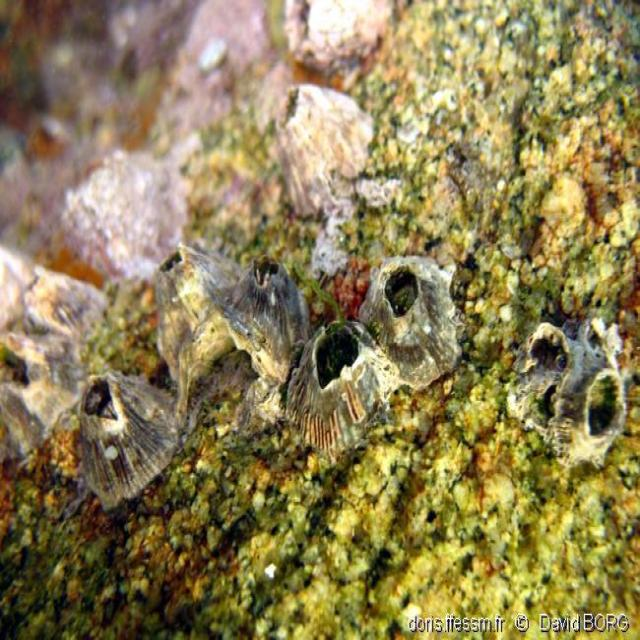barnacles: (284, 318, 396, 459), (264, 87, 382, 219), (362, 245, 469, 383), (65, 378, 173, 502), (231, 240, 314, 374), (566, 324, 628, 474), (131, 239, 221, 340)
